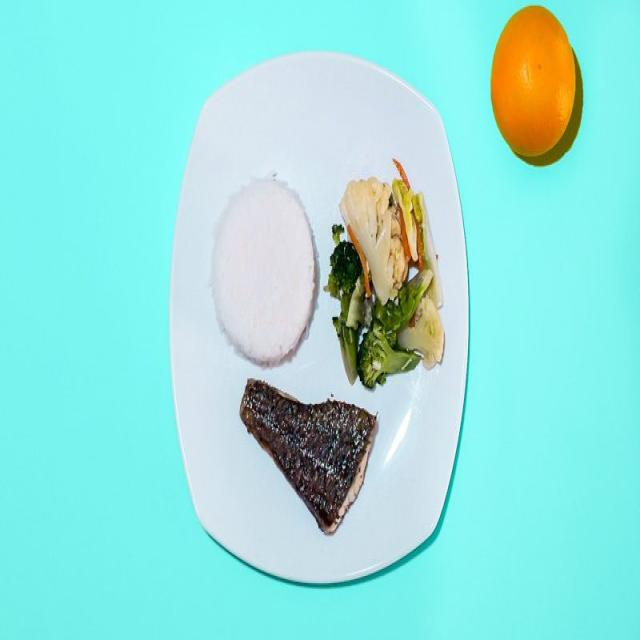Fish: (240, 378, 377, 533)
Fruits: (490, 6, 583, 165)
Green veg: (326, 223, 434, 388)
Non green veg: (341, 161, 442, 368)
Rice: (211, 178, 315, 364)
